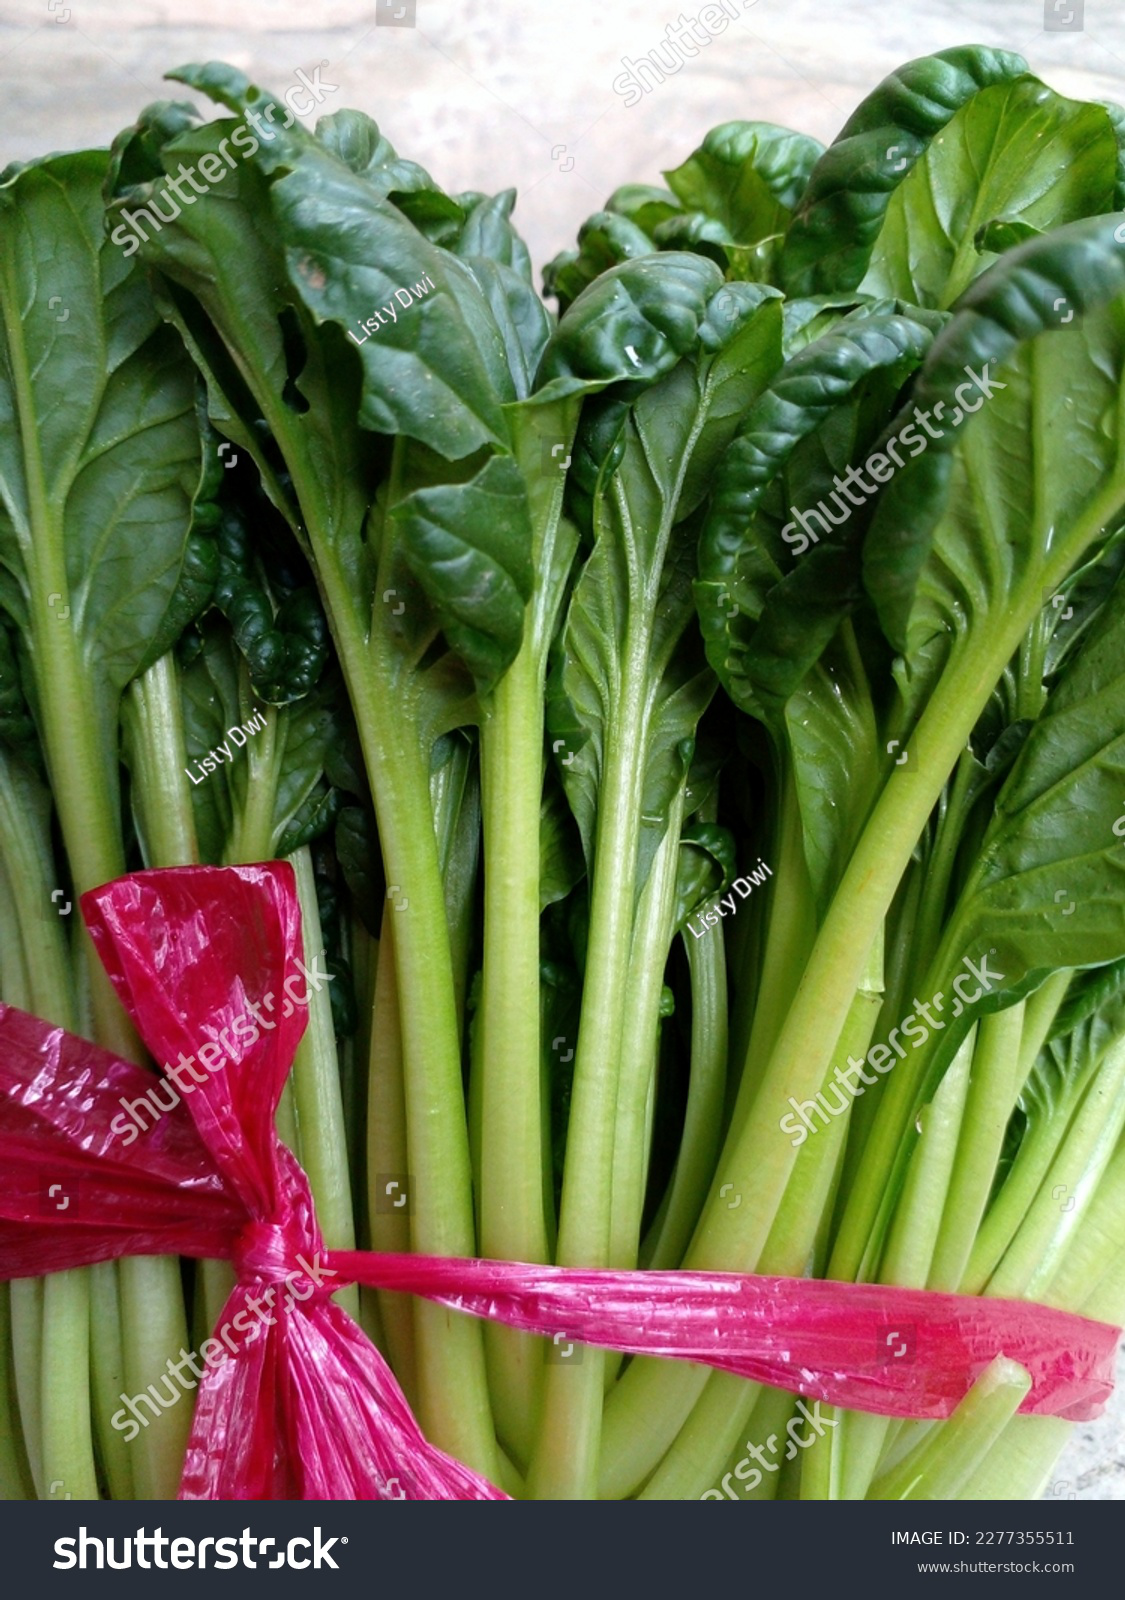Sawi: (56, 82, 1125, 1473)
